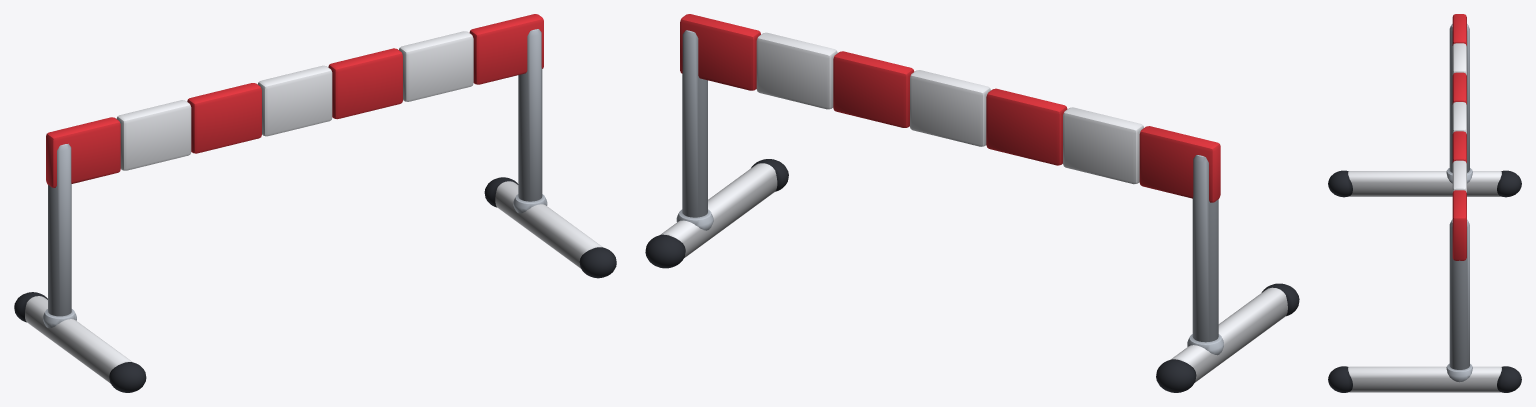
The model's file is bl_hurdle.glb.
The picture shows the model from 3 angles, left to right: view 1: azimuth 30°, elevation 25°; view 2: azimuth 150°, elevation 25°; view 3: azimuth 270°, elevation 25°; orthographic projection. The views are drawn at different scales.
Visible parts, largest first — view 1: hurdle; view 2: hurdle; view 3: hurdle.
Boxes of the visible parts, x1,y1,x2,y2 form: hurdle: (14,14,616,392); hurdle: (645,14,1299,392); hurdle: (1328,14,1521,392).
Bounding box in the file's own units: 1.71 × 0.68 × 0.67.
